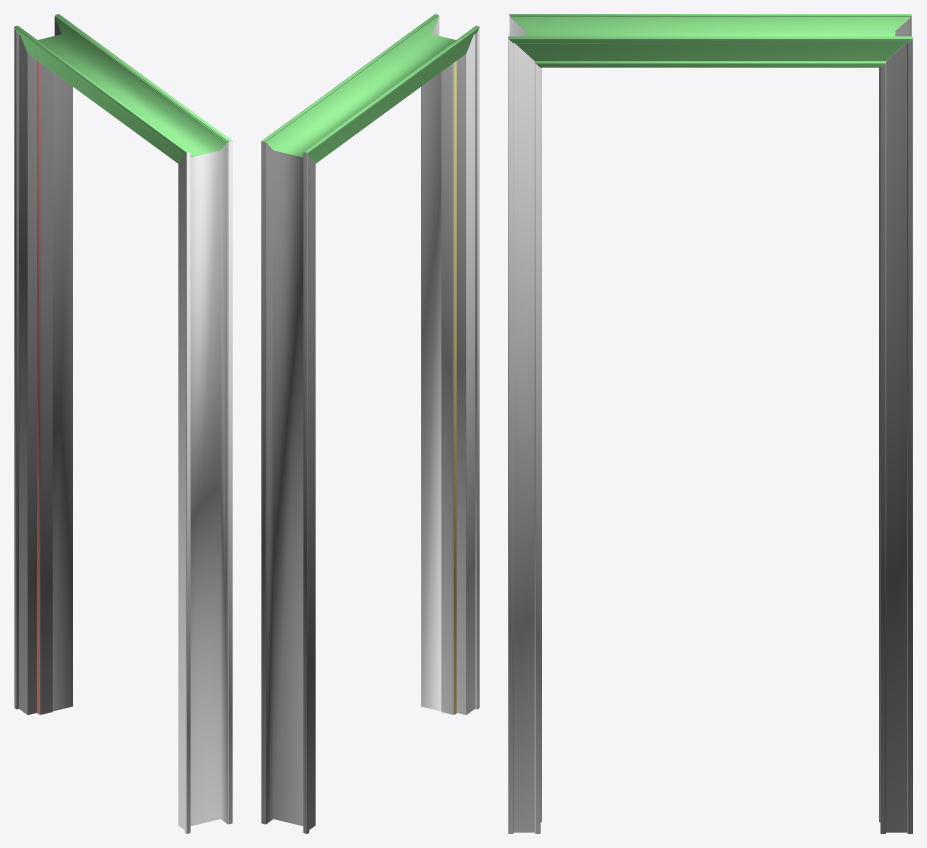
The model's file is doorMesh_Rectangle0.gltf.
3 views of the same model, side by side, from view 1: azimuth 30°, elevation 25°; view 2: azimuth 150°, elevation 25°; view 3: azimuth 270°, elevation 25° (orthographic). The views are drawn at different scales.
Visible parts, largest first — view 1: doorMesh_Rectangle0; view 2: doorMesh_Rectangle0; view 3: doorMesh_Rectangle0.
Boxes of the visible parts, x1,y1,x2,y2 form: doorMesh_Rectangle0: (14, 14, 232, 833); doorMesh_Rectangle0: (261, 14, 479, 833); doorMesh_Rectangle0: (508, 14, 912, 833).
Bounding box in the file's own units: 0.2084 × 2.97 × 1.37.
